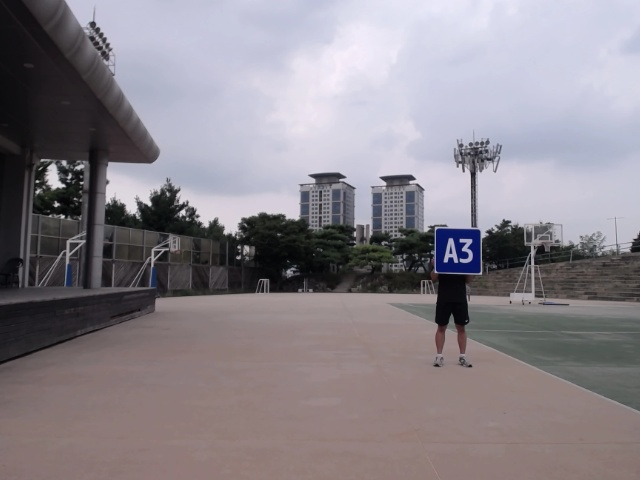delivery_a3: (435, 228, 482, 275)
